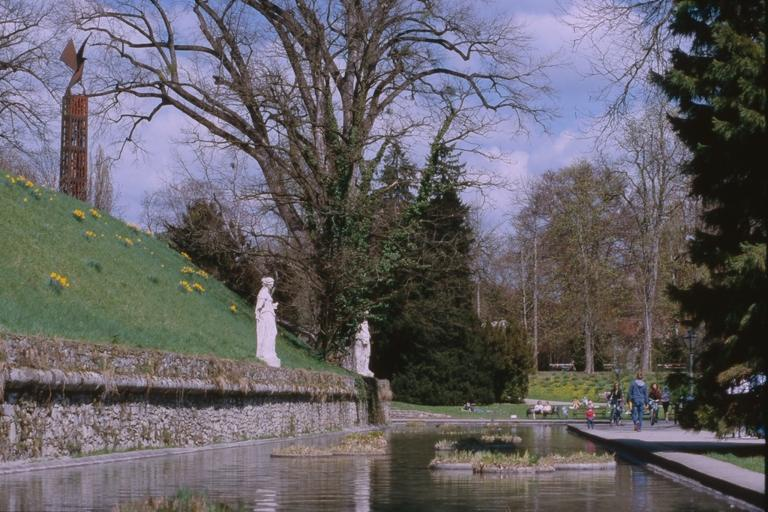non-vehicle: (609, 397, 623, 426), (648, 399, 658, 425)
